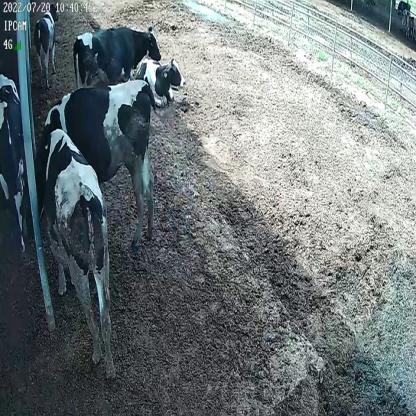cow: (42, 77, 164, 242), (36, 123, 112, 369), (70, 23, 160, 89), (0, 71, 28, 262), (136, 54, 186, 111), (32, 3, 62, 82)
